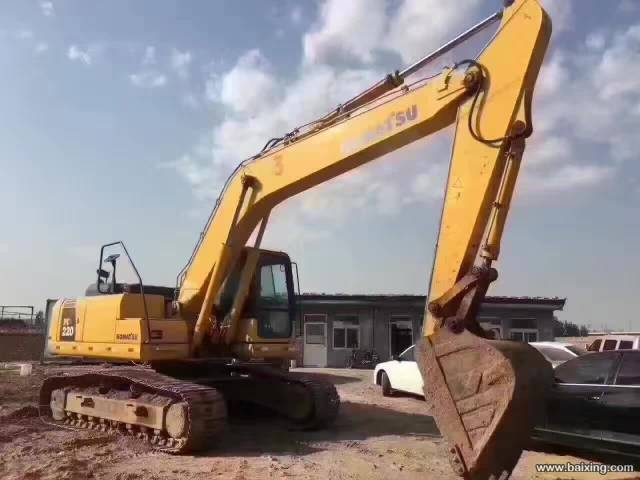excavator: (39, 2, 577, 480)
